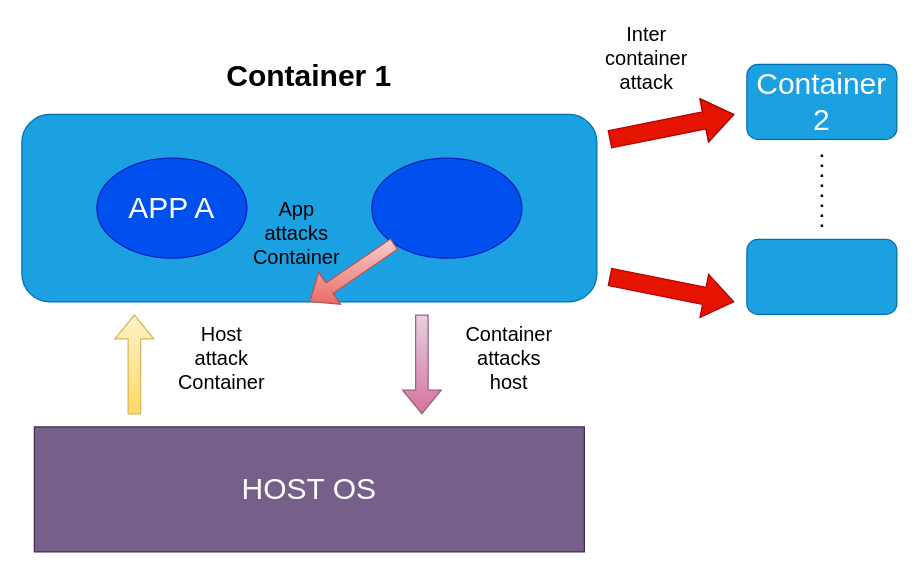
Image size: 919x574. Some labels were removed from this diagram. The shapes that lost their labels are listed below. From the top down, each one's box as (x1, y1, x2, y2) in pixels, then its label:
(371, 157, 522, 258): APP B
(746, 238, 897, 314): Container n
